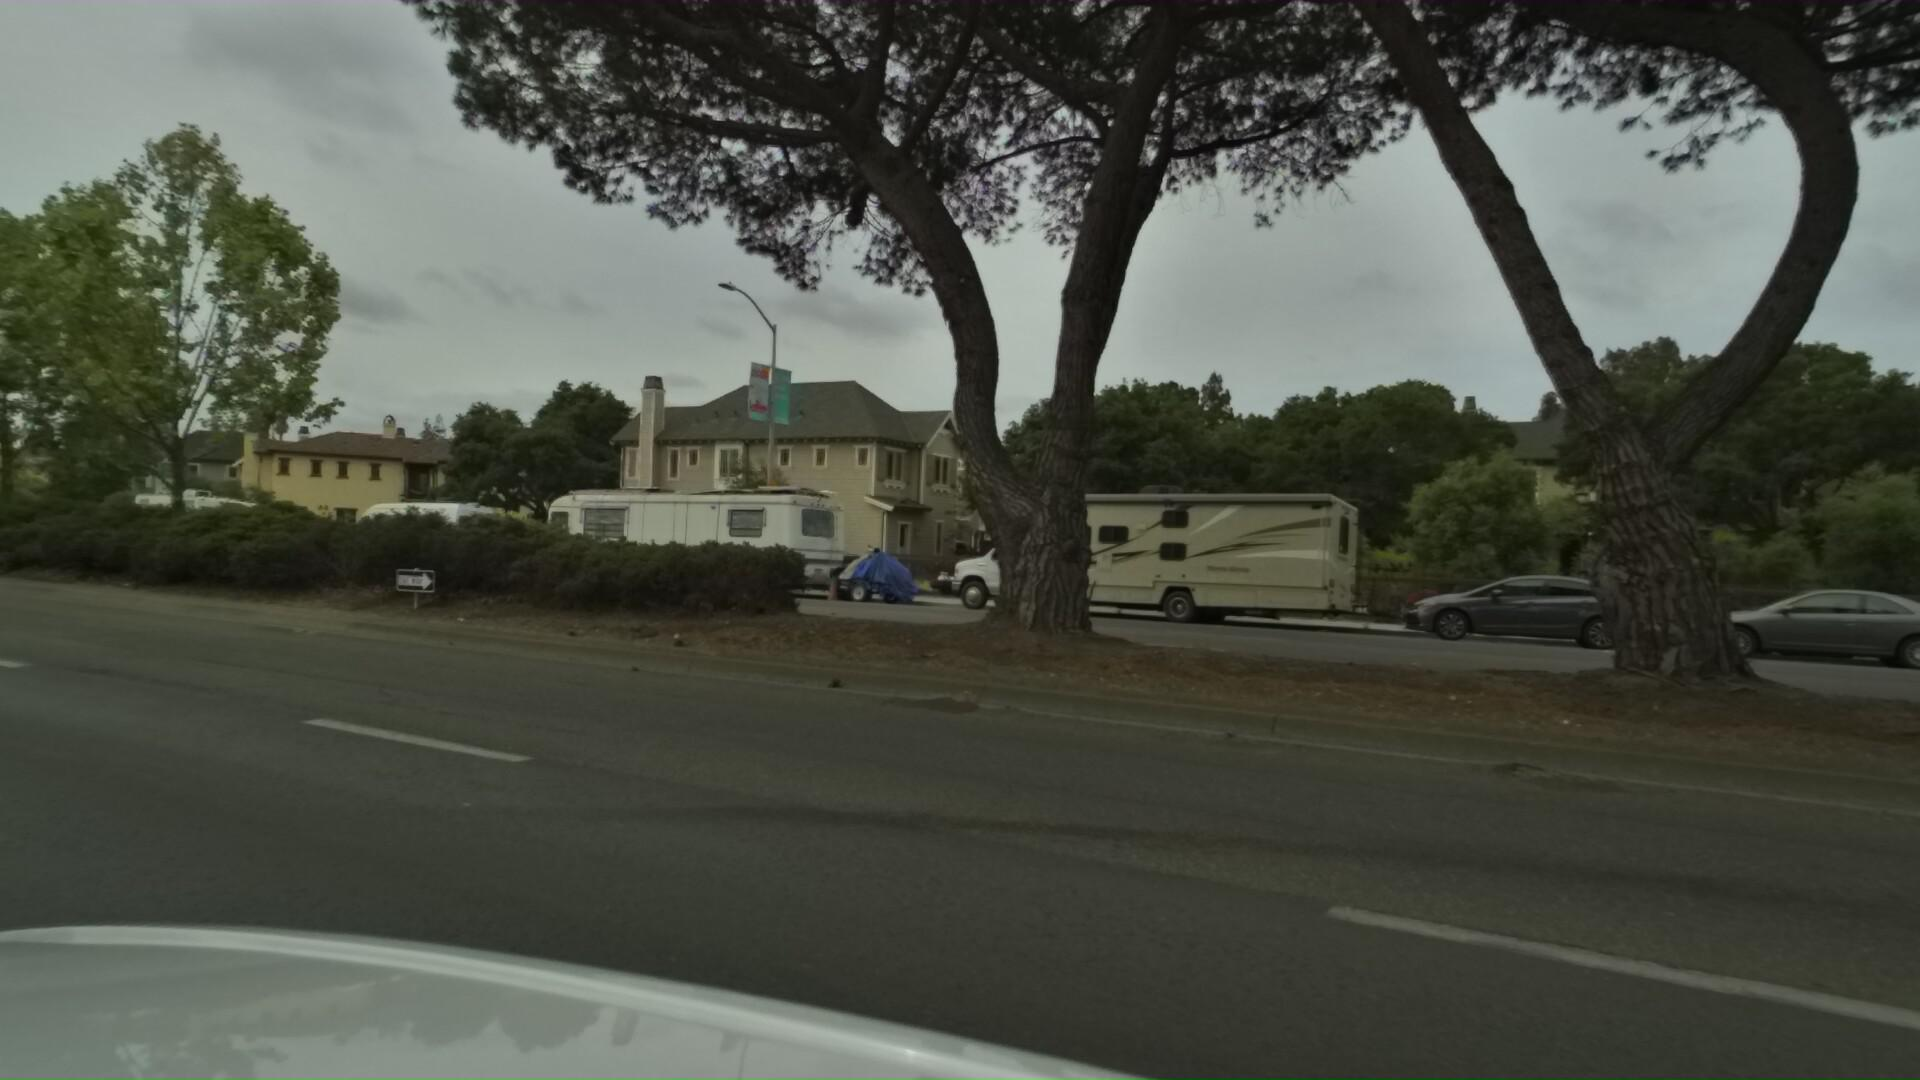car: (1626, 576, 1920, 678), (1366, 566, 1630, 651), (326, 493, 501, 584)
other_vehicle: (916, 472, 1346, 638), (524, 469, 931, 617), (120, 491, 262, 564)
